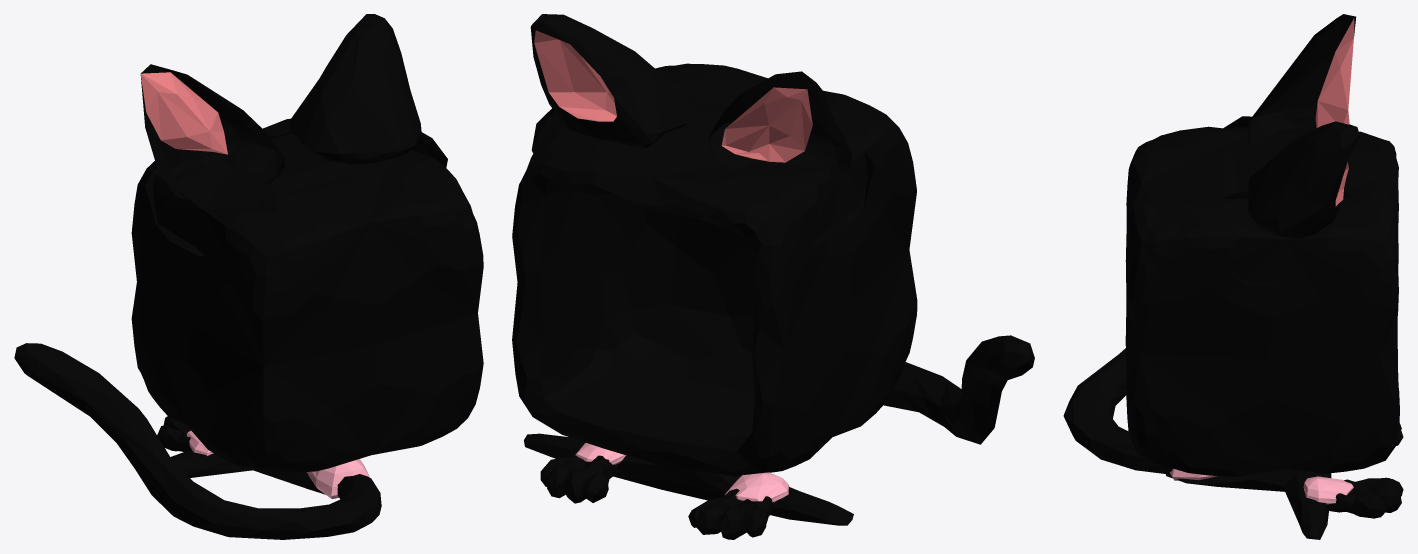
File: nekocom.gltf
3 views of the same model, side by side, from view 1: azimuth 30°, elevation 25°; view 2: azimuth 150°, elevation 25°; view 3: azimuth 270°, elevation 25° (orthographic). The views are drawn at different scales.
Parts seen in each view (by area): view 1: monitor, tail, right ear, left ear, ear band, tail connector, left paw; view 2: monitor, right ear, left ear, tail, left paw, right paw, ear band, paw connector left; view 3: monitor, right ear, left ear, tail, right paw, ear band, paw connector right.
Part boxes in pixels (x1,y1,x2,y2): monitor: (131,118,483,494); tail: (14,343,381,539); right ear: (289,14,421,164); left ear: (140,64,285,202); ear band: (145,132,447,256); tail connector: (306,459,370,499); left paw: (157,416,191,451); monitor: (512,63,917,525); right ear: (530,14,695,147); left ear: (707,71,851,186); tail: (883,335,1034,444); left paw: (688,488,774,539); right paw: (540,450,618,503); ear band: (531,99,874,245); paw connector left: (725,472,789,502); monitor: (1125,126,1399,539); right ear: (1248,121,1359,238); left ear: (1248,14,1356,159); tail: (1063,348,1172,474); right paw: (1327,477,1403,518); ear band: (1222,116,1352,286); paw connector right: (1303,476,1353,504).
Size of the model in its own units: 3.6 by 3.24 by 2.46.
